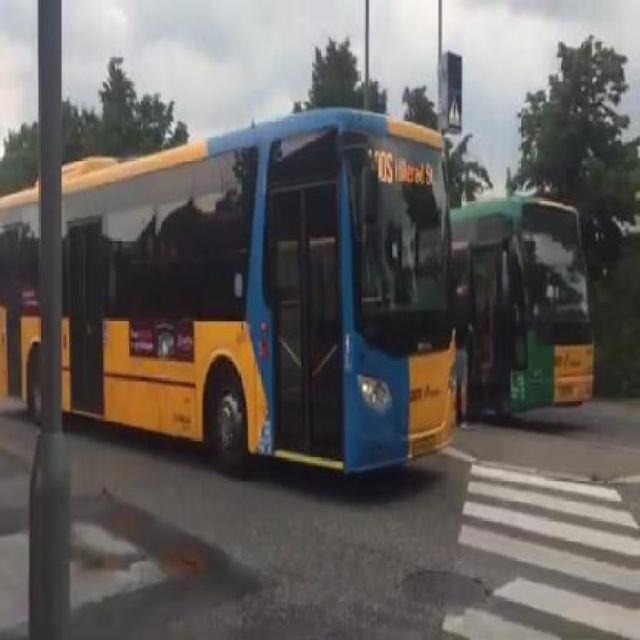bus: (3, 108, 454, 471), (460, 197, 594, 416)
